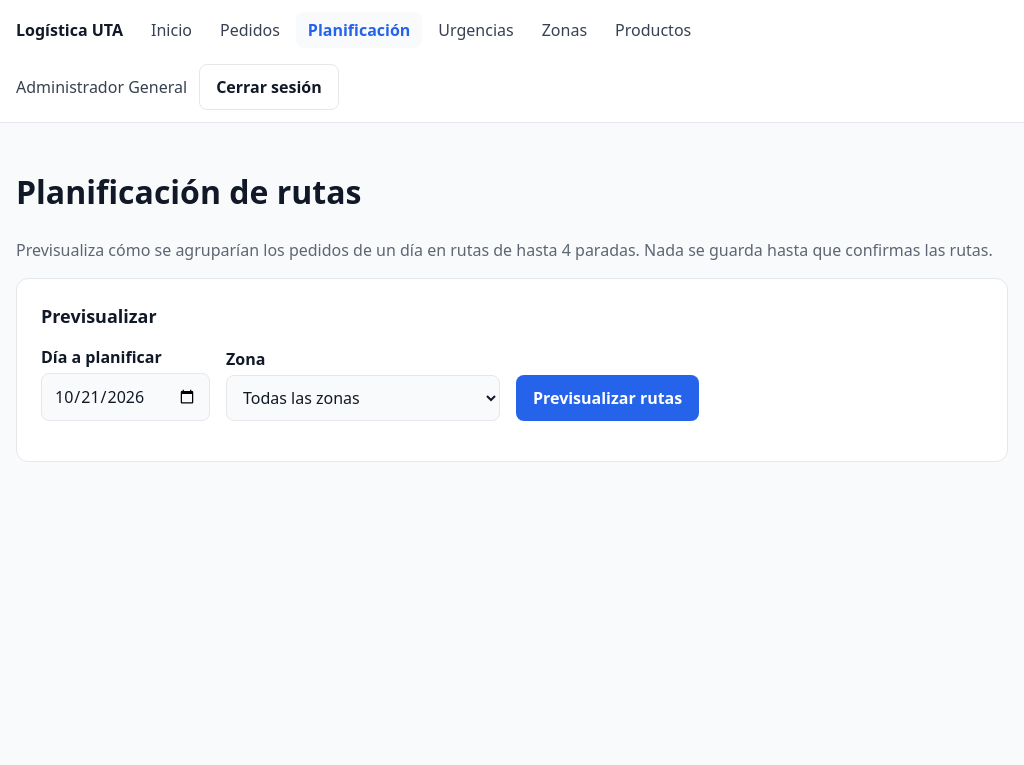
Test: PlanningPage · previsualizar › deja claro que es una vista previa y que las distancias son estimadas en línea recta
Type "2030-02-14" into the date field labelled "Día a planificar" at (126, 397), box x1=41 y1=373 x2=210 y2=421
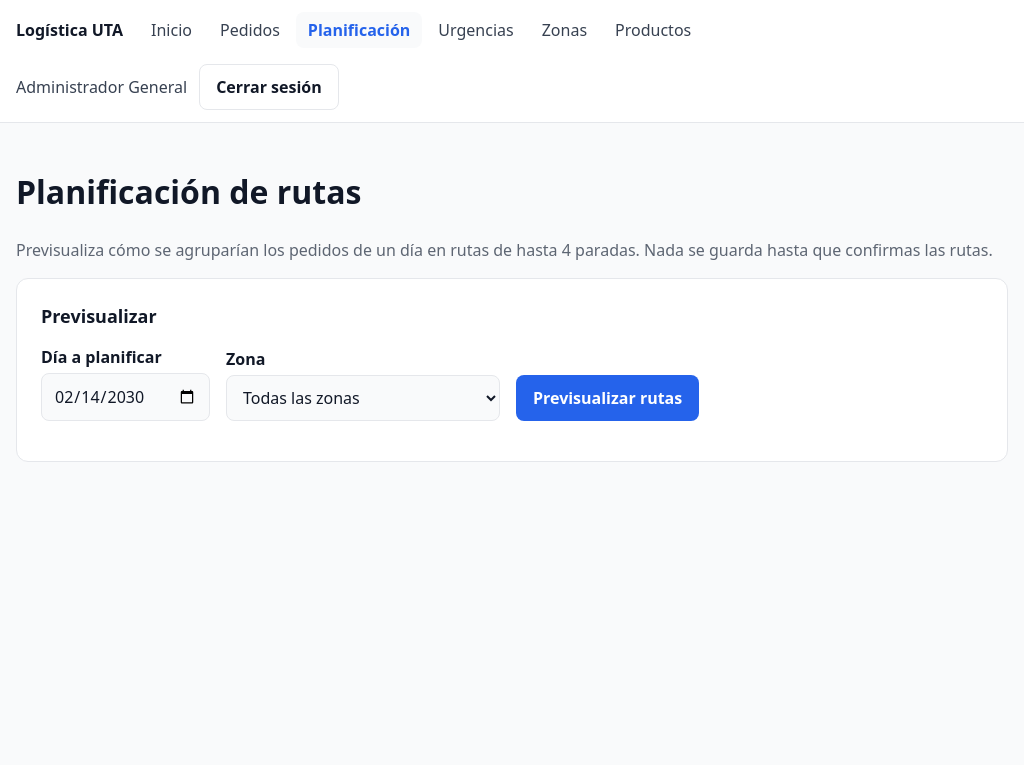
Click the button "Previsualizar rutas" at (608, 398), box x1=516 y1=375 x2=699 y2=421
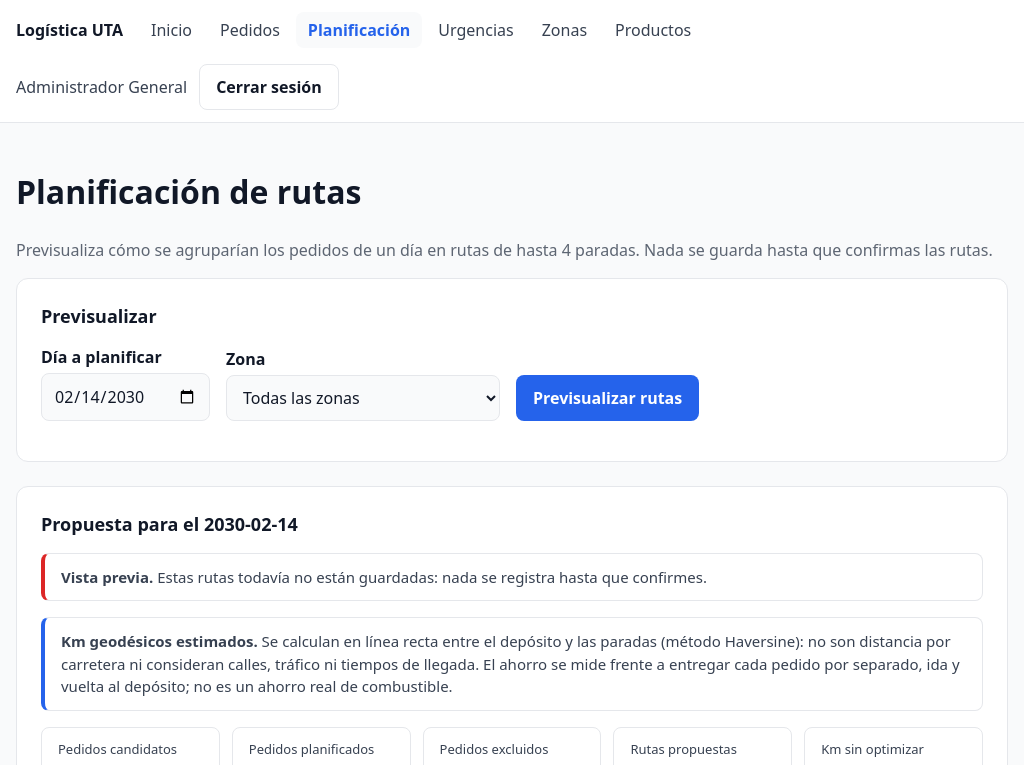
Expected: the text "Estas rutas todavía no están guardadas" is shown, x1=153 y1=567 x2=707 y2=587
Expected: the element that starts with "Km geodésicos estimados." is shown, x1=61 y1=631 x2=258 y2=651
Expected: the element that starts with "Km geodésicos estimados." shows "no son distancia por carretera", x1=61 y1=631 x2=960 y2=696
